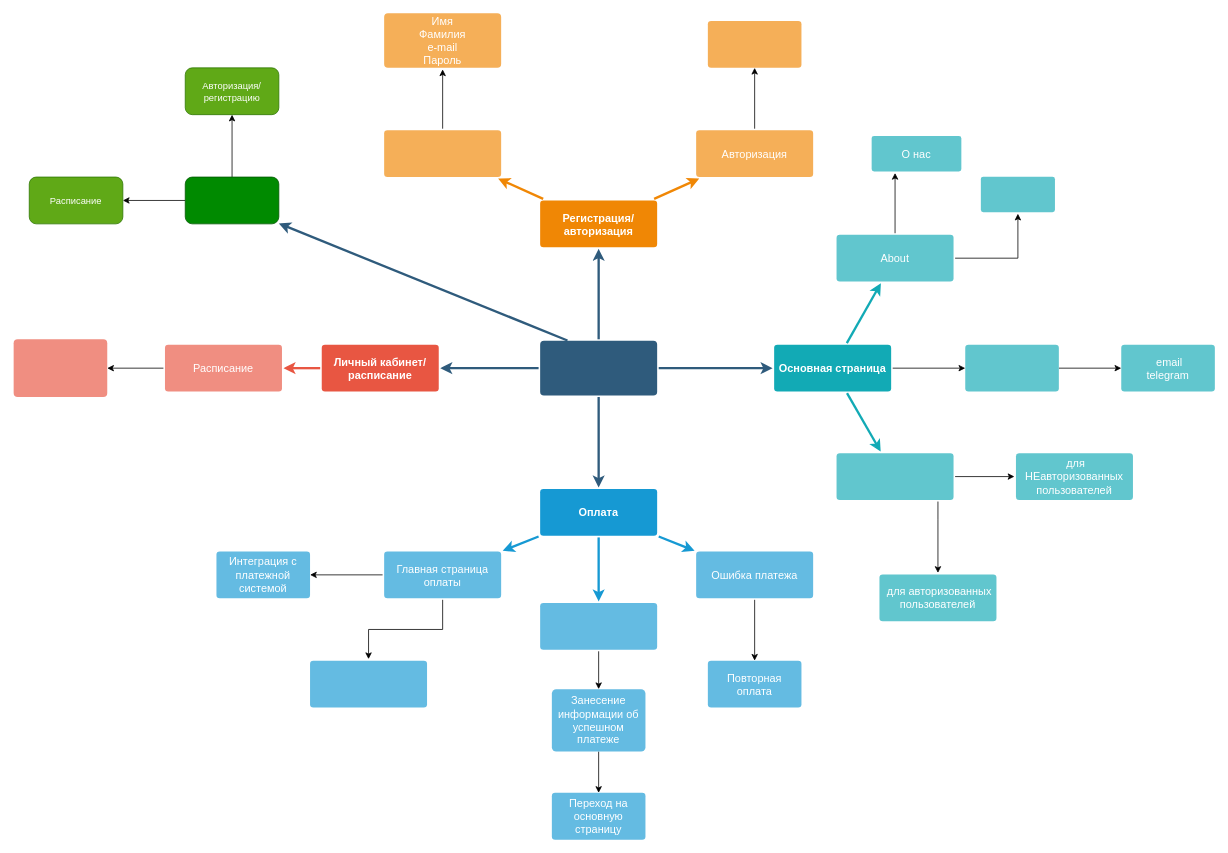
The diagram is 1228 pixels wide and 853 high, and some of its shapes have lost their labels. Each missing label, with the centre of its shape:
"API" goes at [231,200].
"e-mail Пароль" goes at [754,44].
"Видеоуроки" goes at [894,476].
"Даты занятий материалы данные об оплате" goes at [60,368].
"Обратная связь" goes at [1011,367].
"Получение данных для платежа" goes at [368,683].
"Проект" goes at [598,367].
"Регистрация" goes at [442,153].
"Успешный платеж" goes at [598,626].
"Цены" goes at [1017,194].
